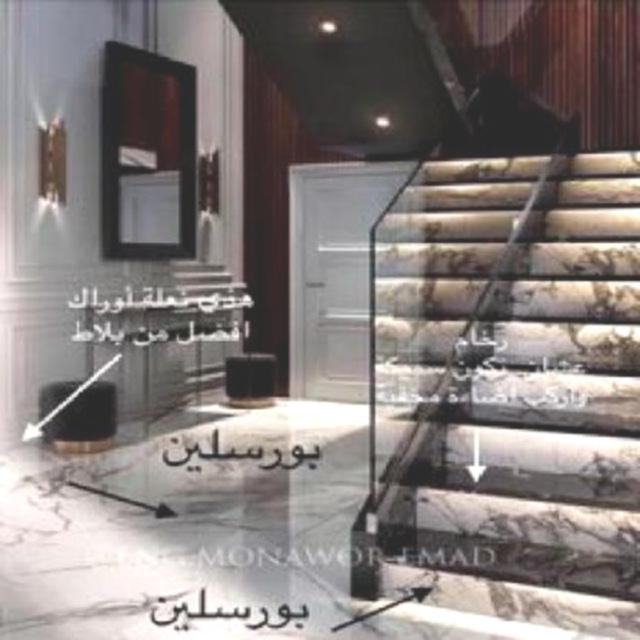stair: (328, 116, 638, 610)
